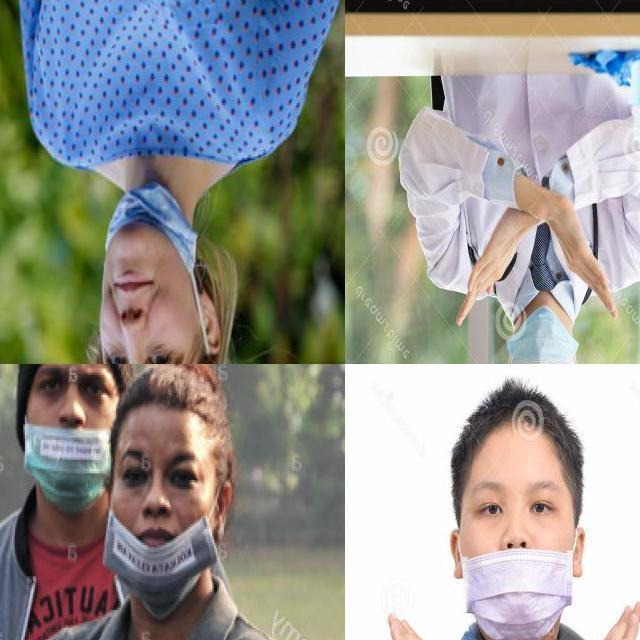hairnet: (113, 480, 216, 607), (100, 185, 202, 311), (465, 528, 568, 639), (22, 403, 114, 501)
